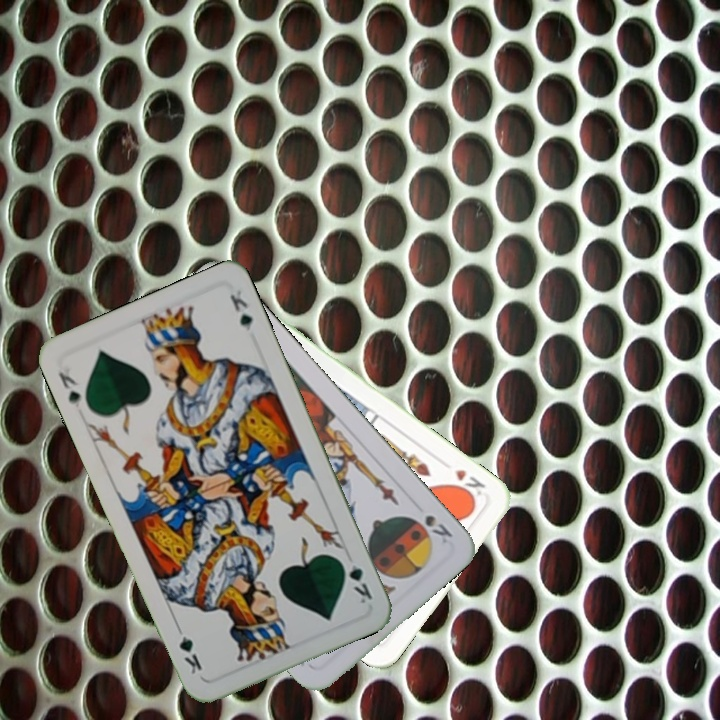GK: (336, 555, 375, 607), (54, 368, 84, 410)
HK: (448, 465, 488, 503)
SK: (420, 511, 456, 546)
